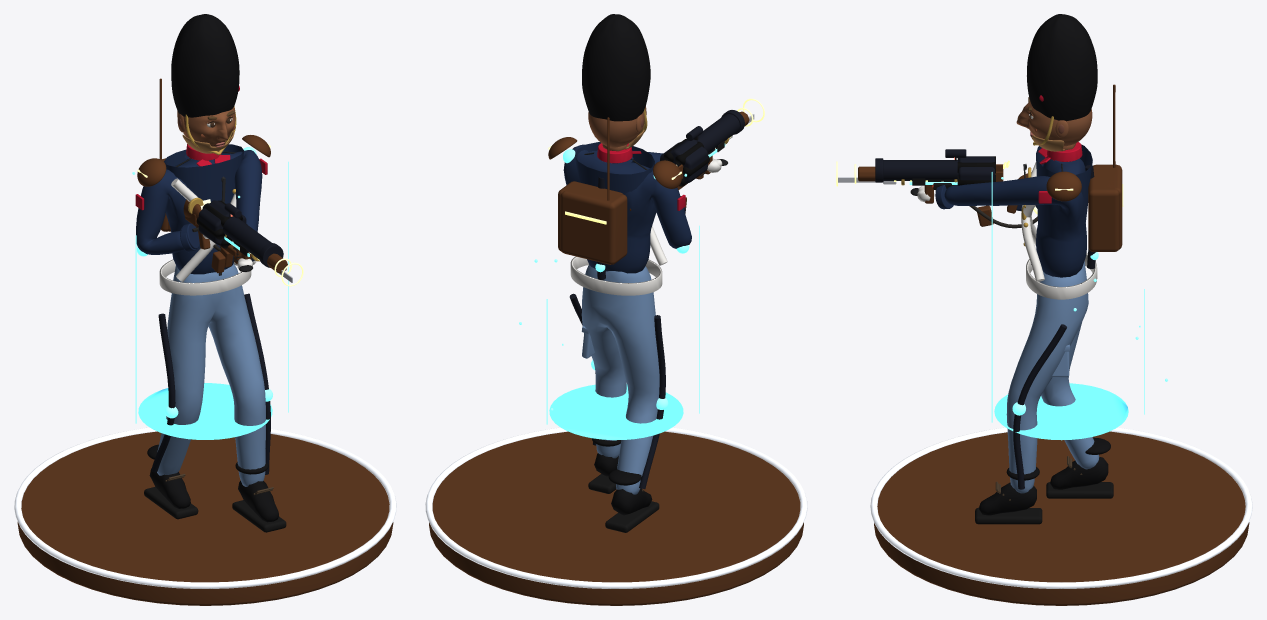
File: kaster_kbh.glb
3 renders of one model, left to right at view 1: azimuth 30°, elevation 25°; view 2: azimuth 150°, elevation 25°; view 3: azimuth 270°, elevation 25°, orthographic.
Visible parts, largest first — view 1: fod_net, menneske_net, hoved_net, op4.002_net, vaaben_net, op1_net, op4_net, op3.001_net, op3_net; view 2: fod_net, menneske_net, hoved_net, op4_net, op4.002_net, vaaben_net, op1_net, op3.001_net; view 3: fod_net, menneske_net, hoved_net, op4.002_net, vaaben_net, ned4_net, op4_net, op1_net, op3.001_net.
Part boxes in pixels (left/top/right/bottom): fod_net: left=14, top=427, right=396, bottom=605; menneske_net: left=135, top=144, right=286, bottom=532; hoved_net: left=171, top=14, right=239, bottom=155; op4.002_net: left=132, top=161, right=288, bottom=439; vaaben_net: left=183, top=199, right=283, bottom=267; op1_net: left=159, top=178, right=256, bottom=295; op4_net: left=137, top=147, right=272, bottom=474; op3.001_net: left=137, top=78, right=270, bottom=186; op3_net: left=211, top=251, right=287, bottom=273; fod_net: left=425, top=427, right=807, bottom=605; menneske_net: left=563, top=142, right=727, bottom=532; hoved_net: left=582, top=14, right=650, bottom=149; op4_net: left=560, top=149, right=689, bottom=489; op4.002_net: left=519, top=173, right=699, bottom=440; vaaben_net: left=629, top=110, right=744, bottom=210; op1_net: left=570, top=207, right=685, bottom=295; op3.001_net: left=548, top=117, right=681, bottom=200; fod_net: left=870, top=427, right=1252, bottom=605; menneske_net: left=910, top=142, right=1113, bottom=524; hoved_net: left=1016, top=14, right=1097, bottom=151; op4.002_net: left=991, top=172, right=1167, bottom=440; vaaben_net: left=875, top=149, right=1027, bottom=213; ned4_net: left=1088, top=166, right=1119, bottom=251; op4_net: left=1012, top=164, right=1123, bottom=489; op1_net: left=1016, top=161, right=1097, bottom=299; op3.001_net: left=1046, top=84, right=1115, bottom=201.
Size of the model in its own units: 1.94 by 2.86 by 2.11.
